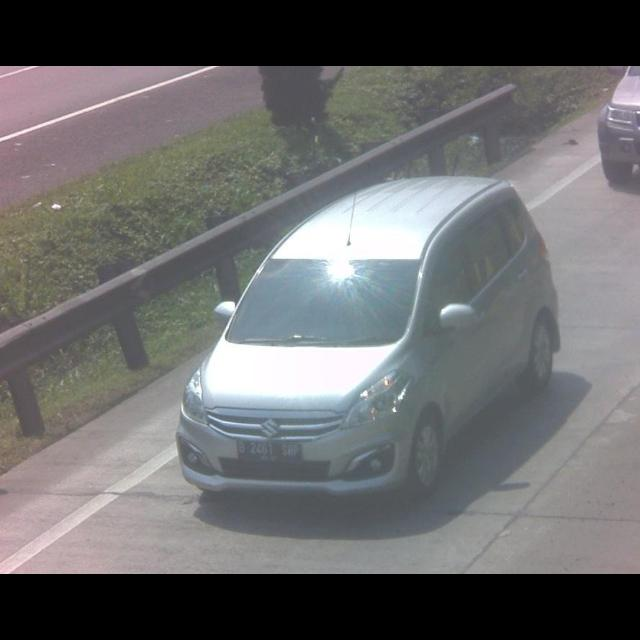plate: (234, 439, 303, 465)
